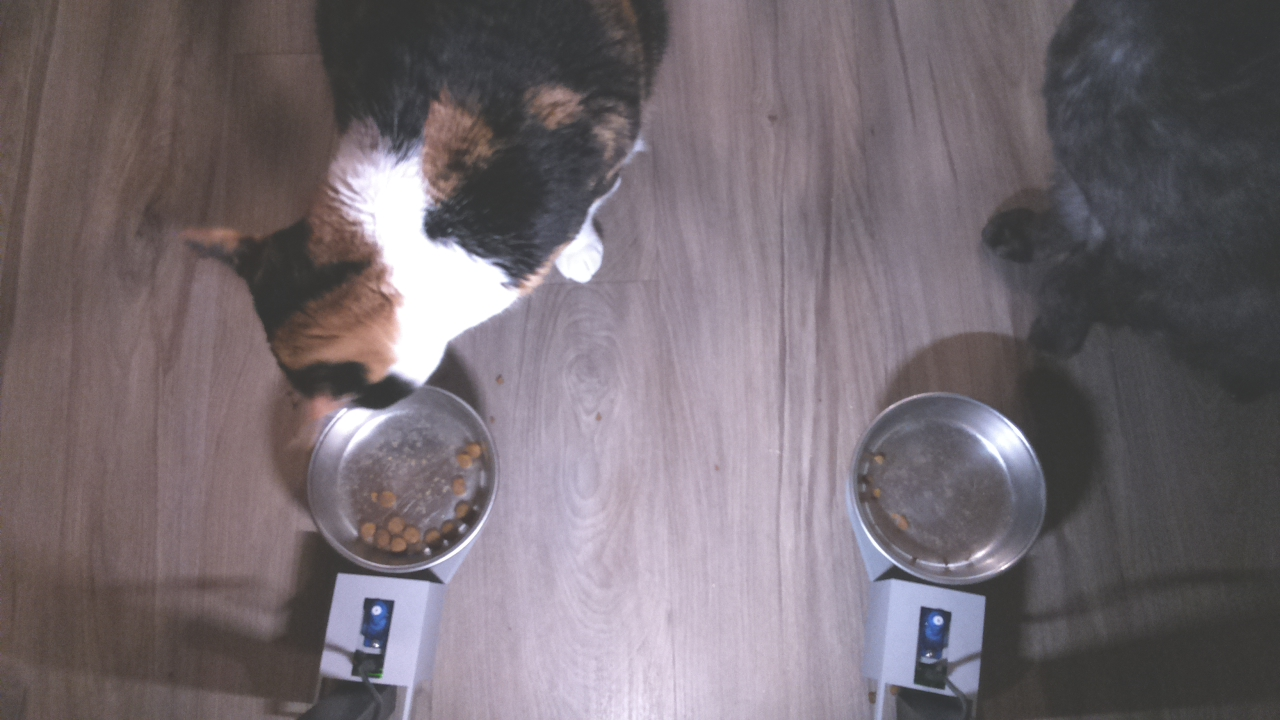bella: (180, 184, 498, 411)
open_bowl: (852, 389, 1057, 592), (299, 376, 494, 577)
